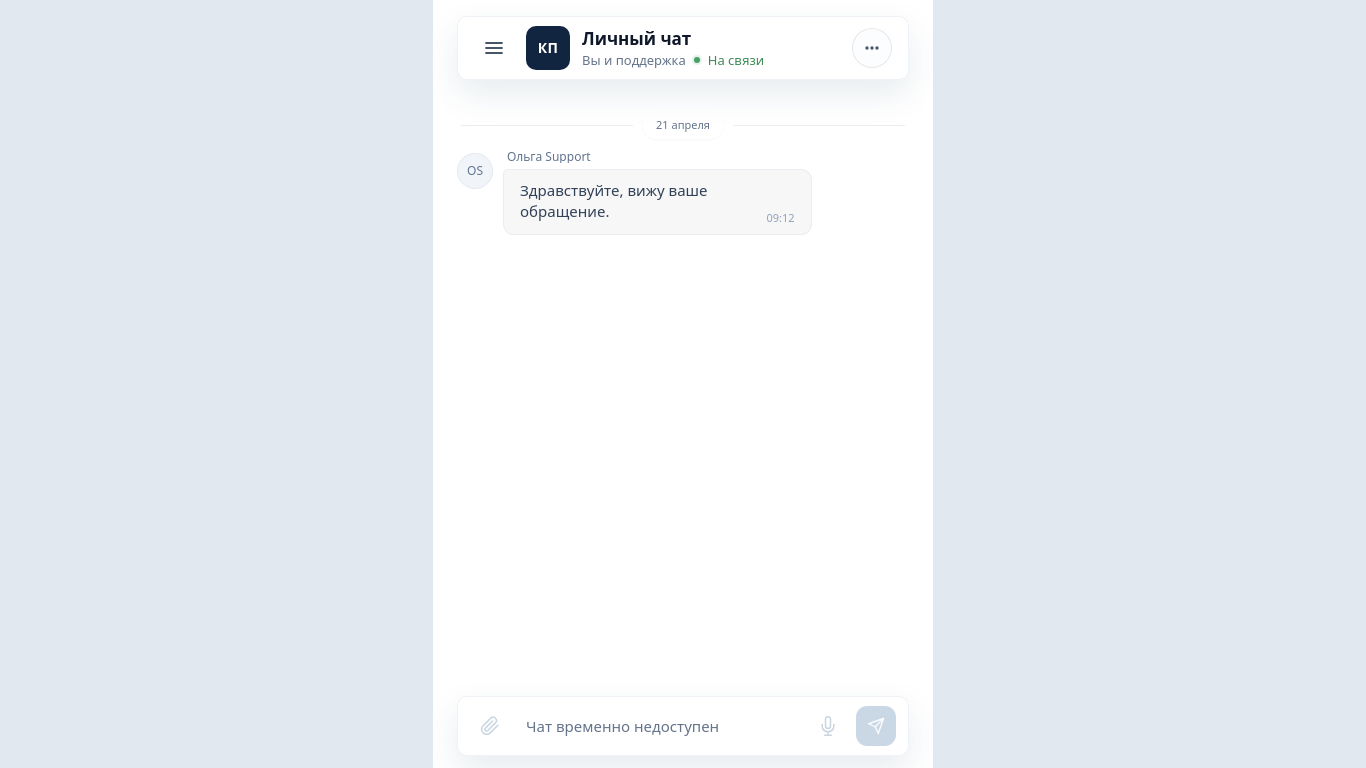
ChatPage unread indicators › does not suppress same-chat browser push while a history fragment is visible
Expected: the text "Здравствуйте, вижу ваше обращение." is shown, [520,180,712,221]
Click the button named "Открыть меню чата": (872, 48) [852,28,892,68]
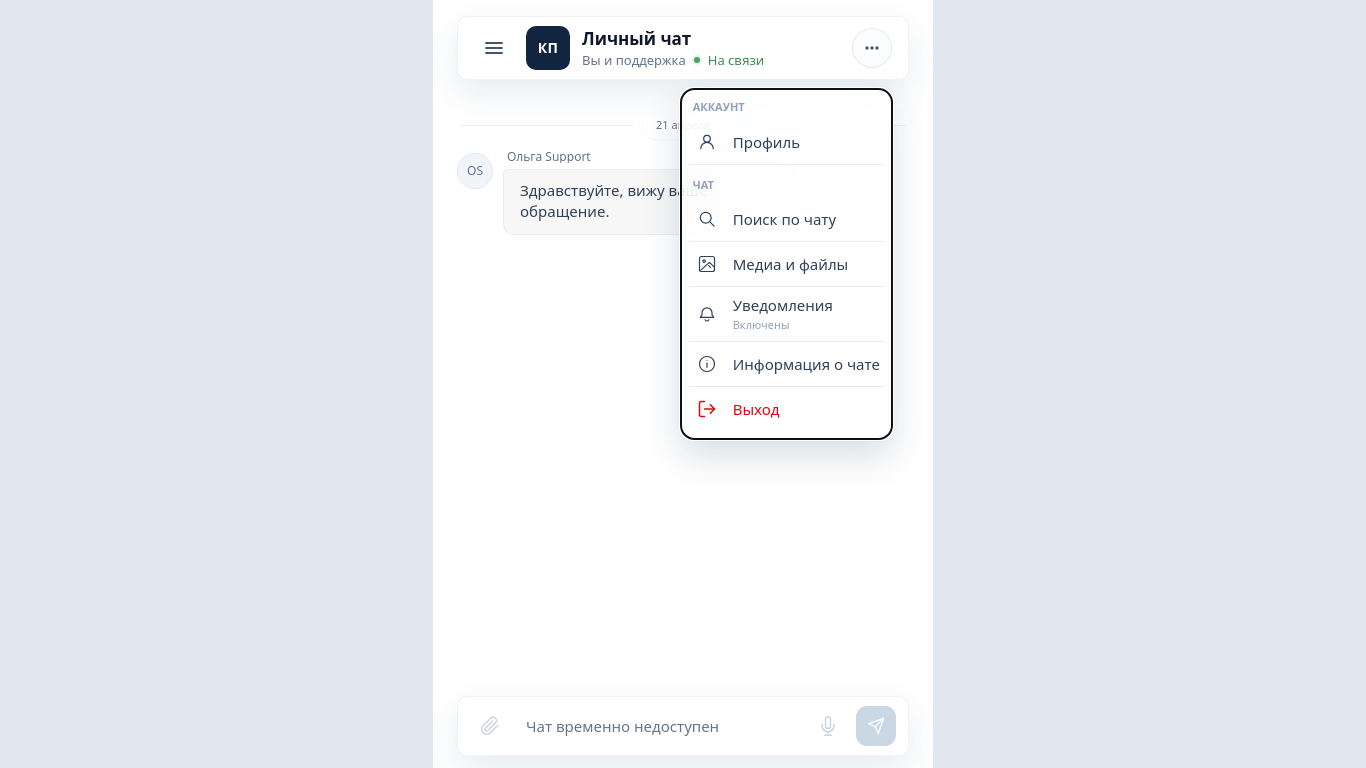
Click the menu item "Поиск по чату": (786, 220) [689,197,884,242]
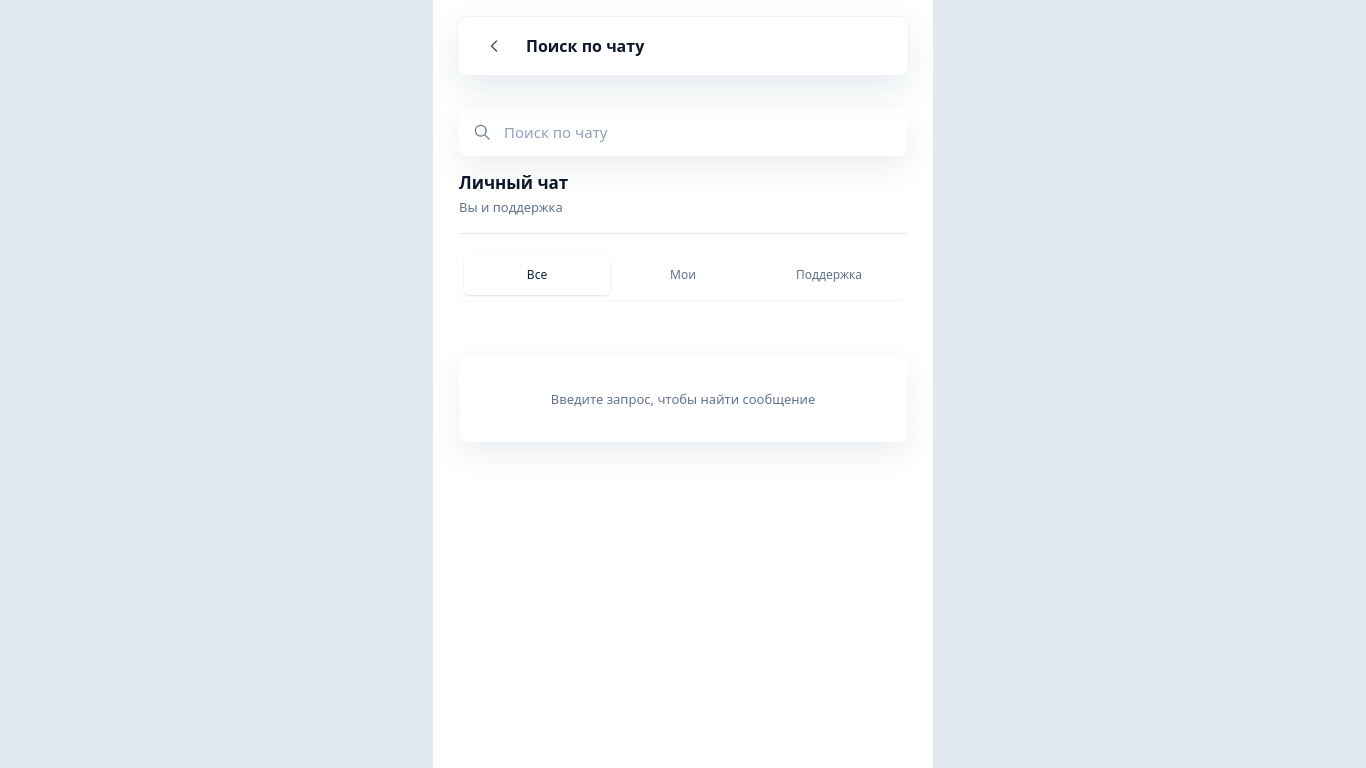
In the search field labelled "Поиск по чату": (699, 132) [504,110,894,154], type "договор"
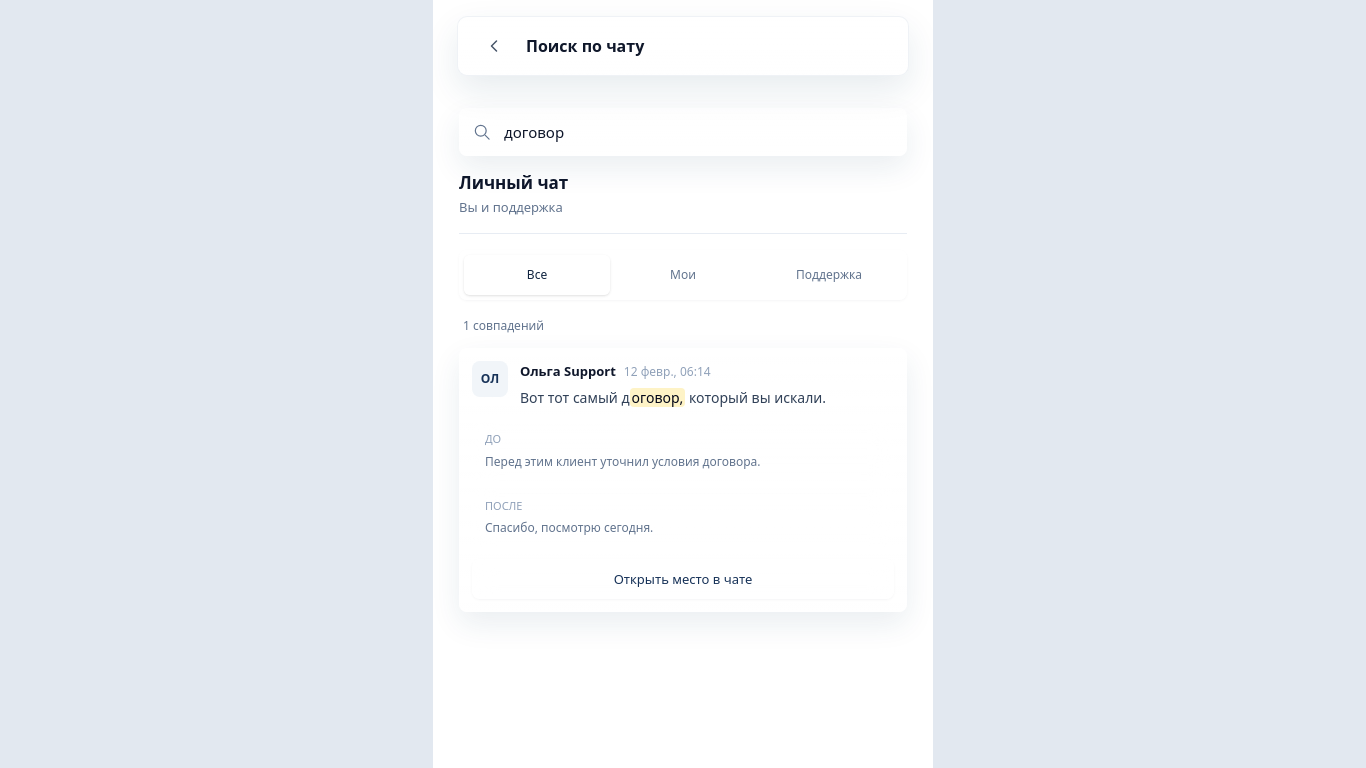
Click the button "Открыть место в чате": (683, 579) [472,559,894,599]
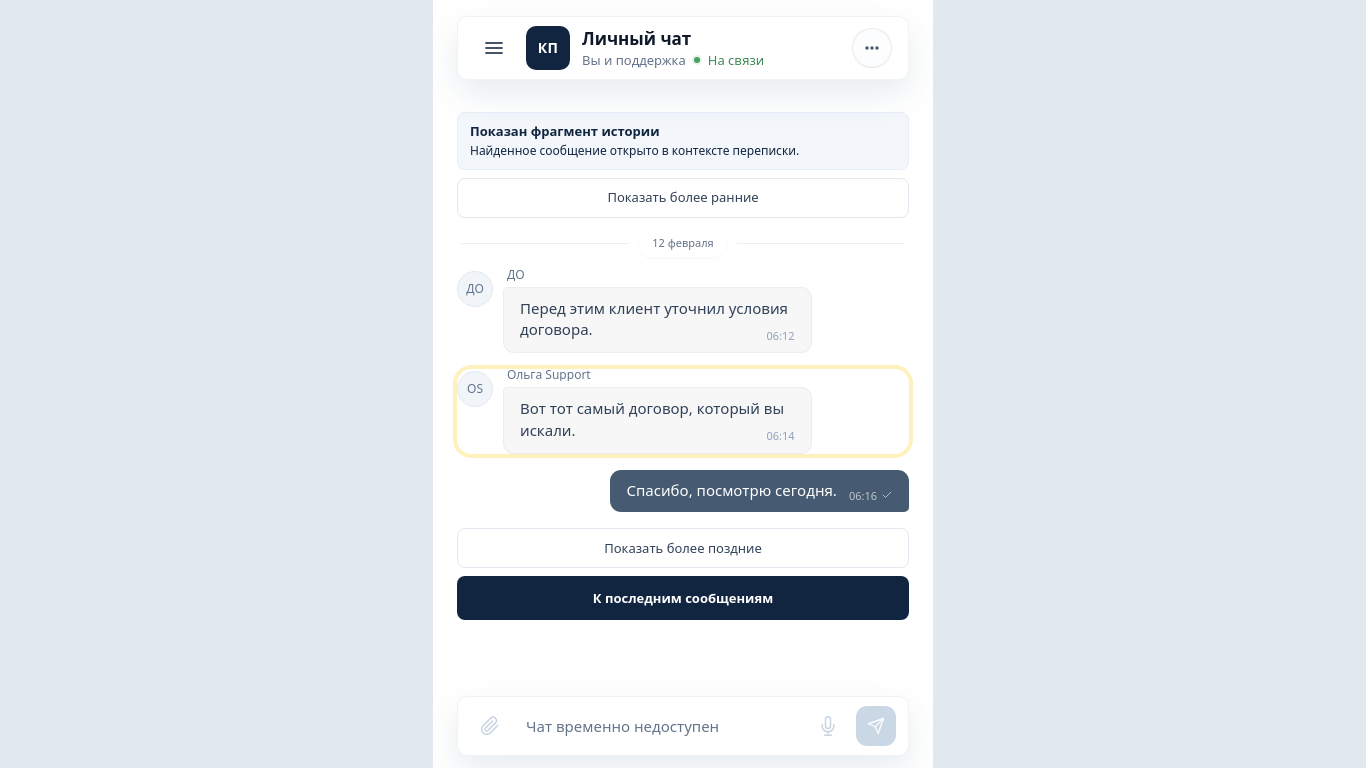
Expected: the text "Показан фрагмент истории" is shown, [470,122,660,140]
